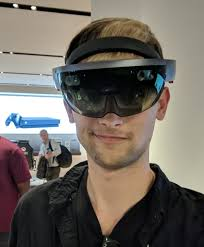hololens: (49, 56, 180, 119)
